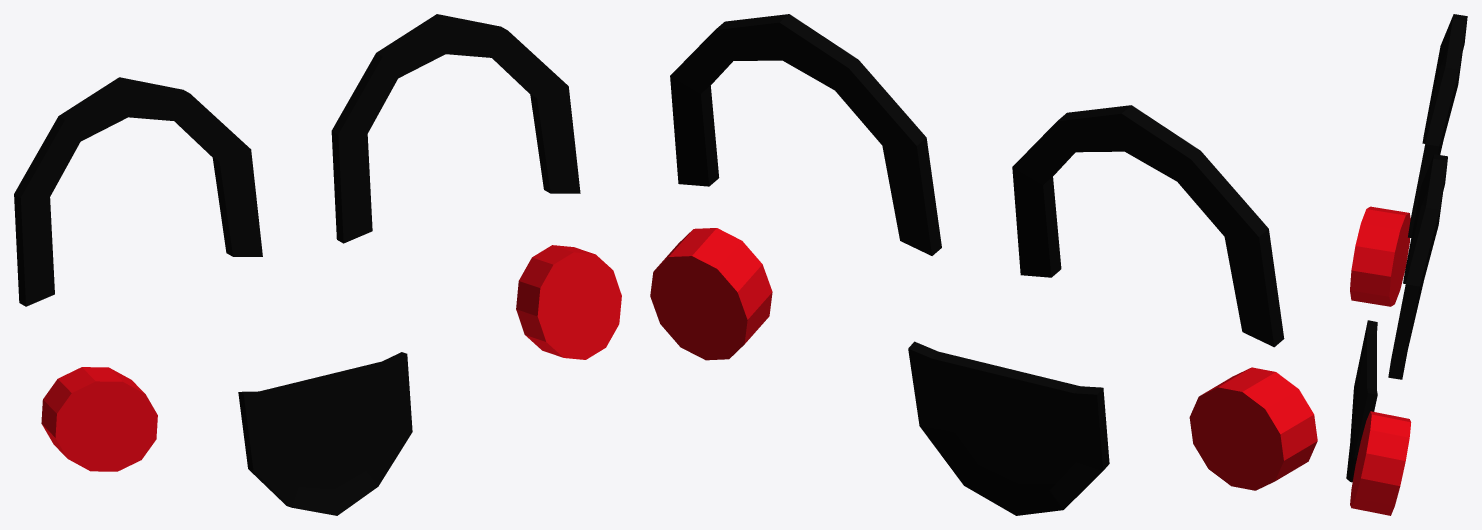
The model's file is CairtaVictory.fbx.
3 renders of one model, left to right at view 1: azimuth 30°, elevation 25°; view 2: azimuth 150°, elevation 25°; view 3: azimuth 270°, elevation 25°, orthographic. The views are drawn at different scales.
Visible parts, largest first — view 1: MojaCaritaWni; view 2: MojaCaritaWni; view 3: MojaCaritaWni.
Boxes of the visible parts, bbox=[...] form: MojaCaritaWni: bbox=[14, 14, 621, 515]; MojaCaritaWni: bbox=[650, 14, 1317, 515]; MojaCaritaWni: bbox=[1346, 14, 1467, 515].
Size of the model in its own units: 72.27 by 53.08 by 14.83.
